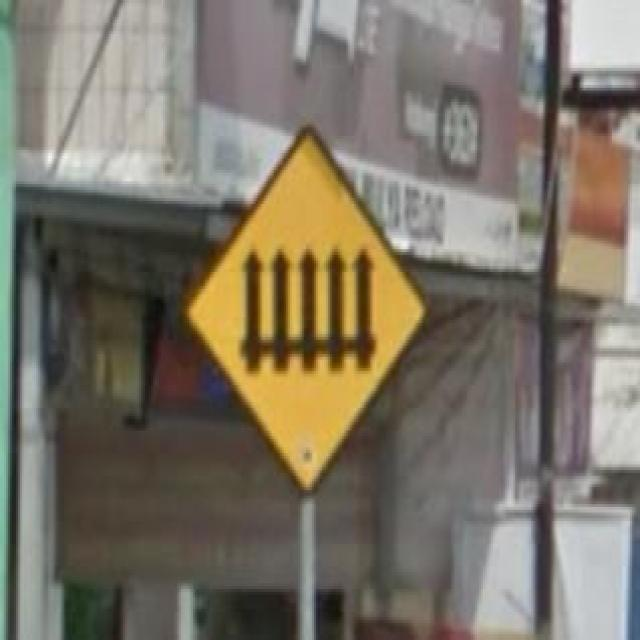traffic sign: (193, 145, 424, 488)
